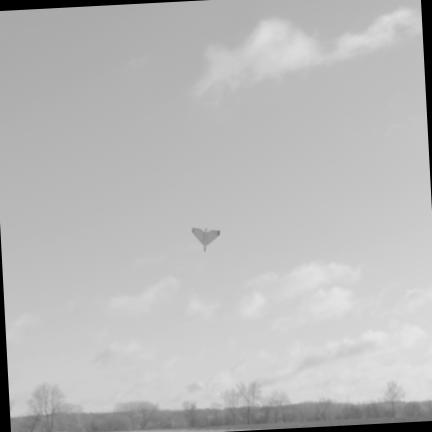Shahed: (192, 229, 219, 251)
